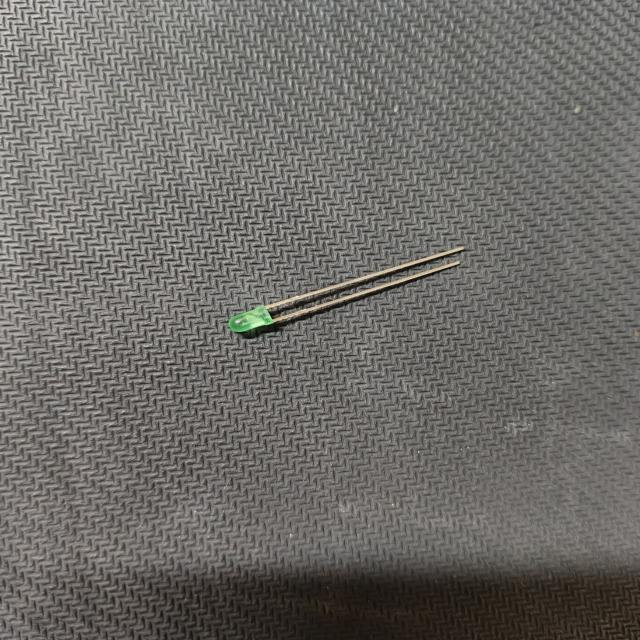led: (213, 236, 479, 351)
